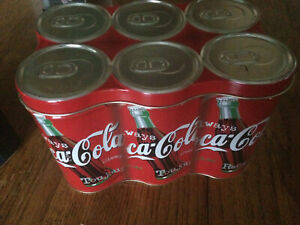can: (13, 42, 123, 192), (196, 32, 298, 186), (110, 37, 197, 186)
